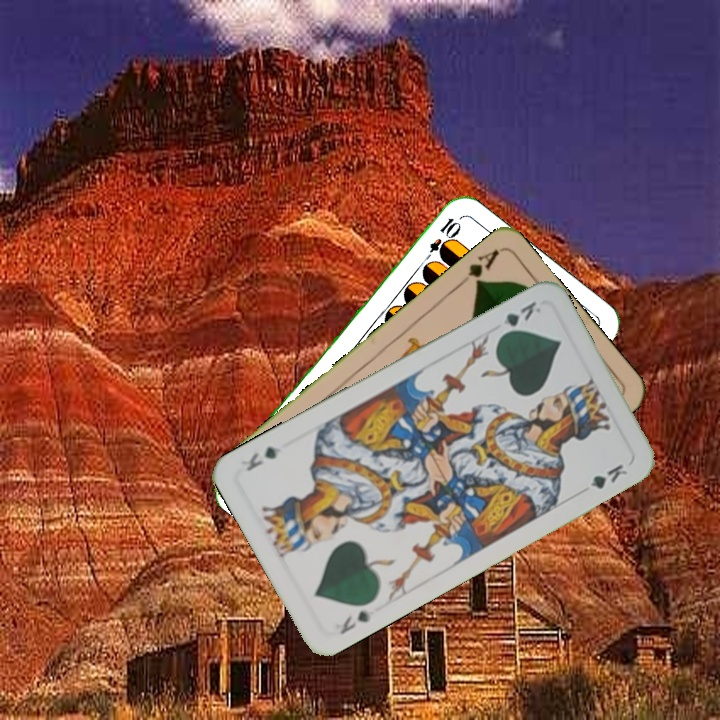E10: (418, 213, 463, 267)
GA: (453, 245, 503, 290)
GK: (494, 297, 544, 340), (335, 606, 377, 637)
